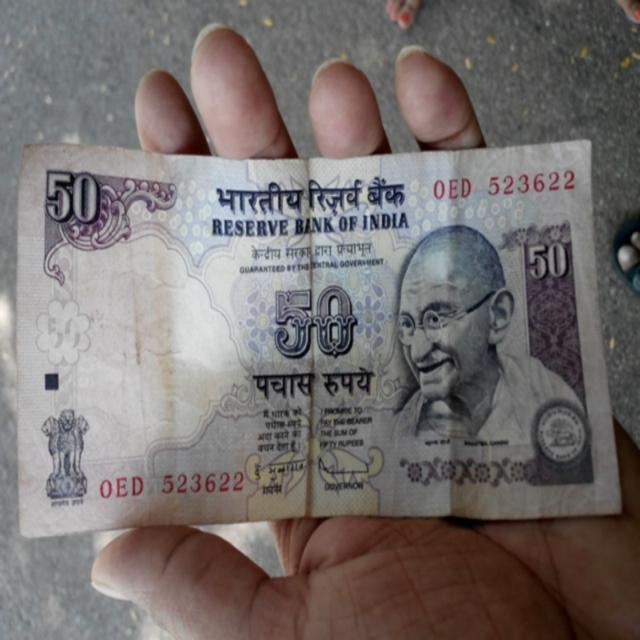50rs: (11, 138, 625, 532)
